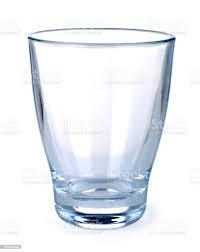glass: (17, 10, 181, 238)
